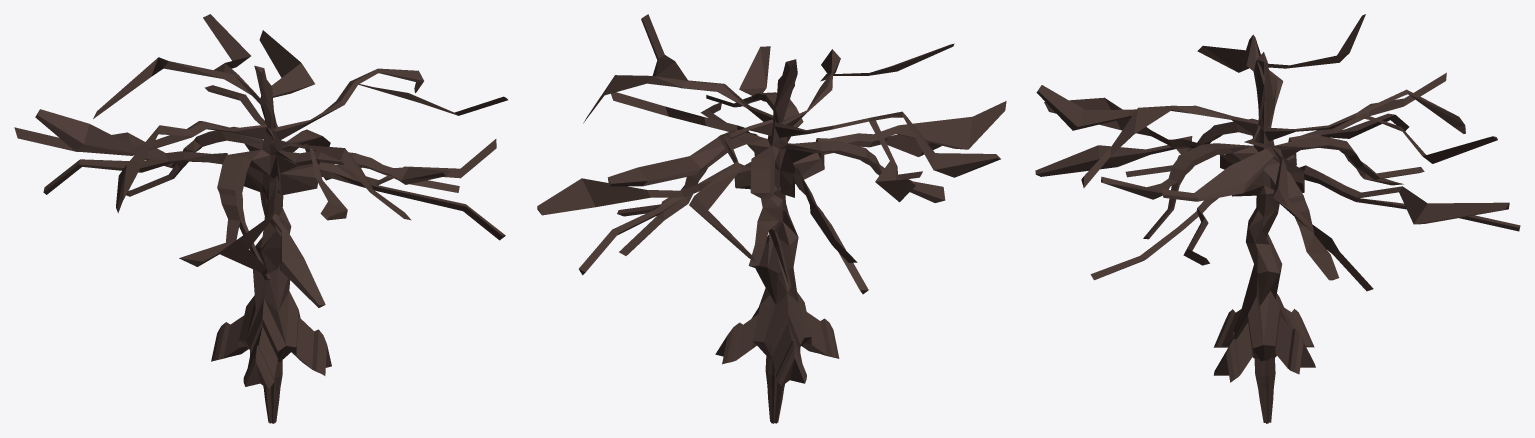
File: SwampTree.fbx
The picture shows the model from 3 angles, left to right: view 1: azimuth 30°, elevation 25°; view 2: azimuth 150°, elevation 25°; view 3: azimuth 270°, elevation 25°; orthographic projection.
Visible parts, largest first — view 1: Cube; view 2: Cube; view 3: Cube.
Part boxes in pixels (x1,y1,x2,y2): Cube: [14, 14, 507, 423]; Cube: [537, 14, 1006, 423]; Cube: [1035, 14, 1520, 423].
Bounding box in the file's own units: 6249 × 5662 × 6896.
